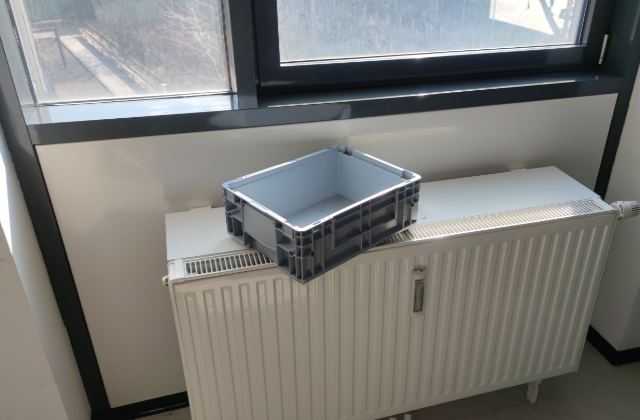Box: (219, 144, 423, 285)
